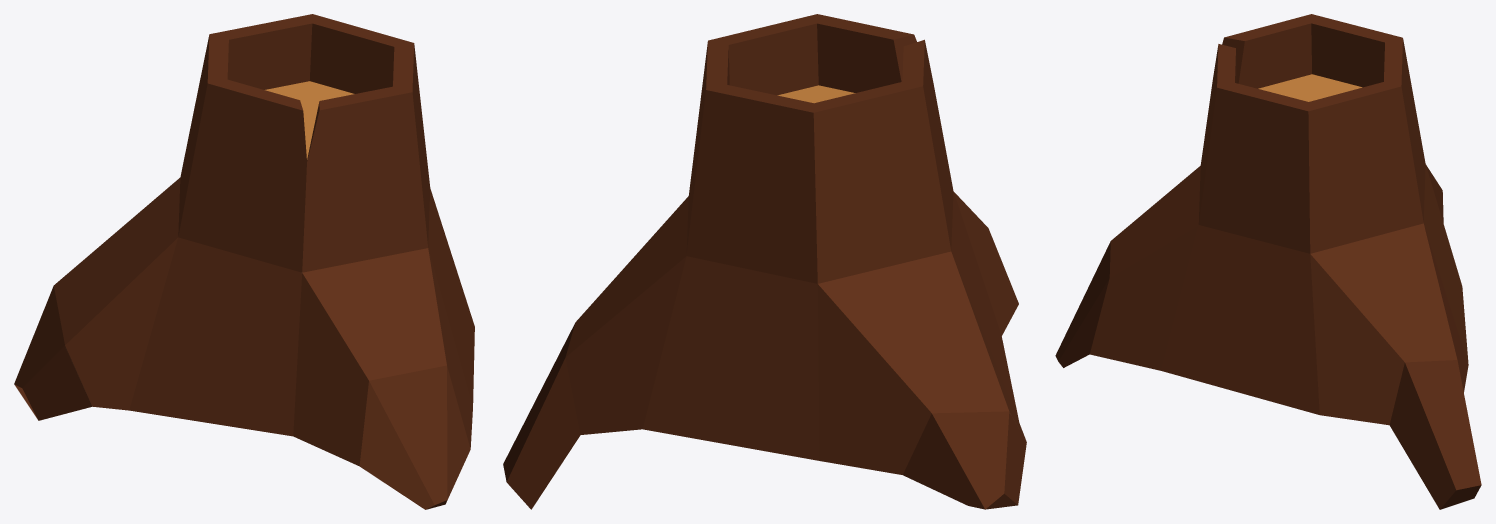
File: Log.fbx
The picture shows the model from 3 angles, left to right: view 1: azimuth 30°, elevation 25°; view 2: azimuth 150°, elevation 25°; view 3: azimuth 270°, elevation 25°; orthographic projection. The views are drawn at different scales.
Parts seen in each view (by area): view 1: Cylinder.001; view 2: Cylinder.001; view 3: Cylinder.001.
Boxes of the visible parts, box(x1,y1,x2,y2) form: Cylinder.001: box(14, 14, 474, 509); Cylinder.001: box(503, 14, 1026, 509); Cylinder.001: box(1055, 14, 1481, 509).
Bounding box in the file's own units: 209 × 180 × 192.
